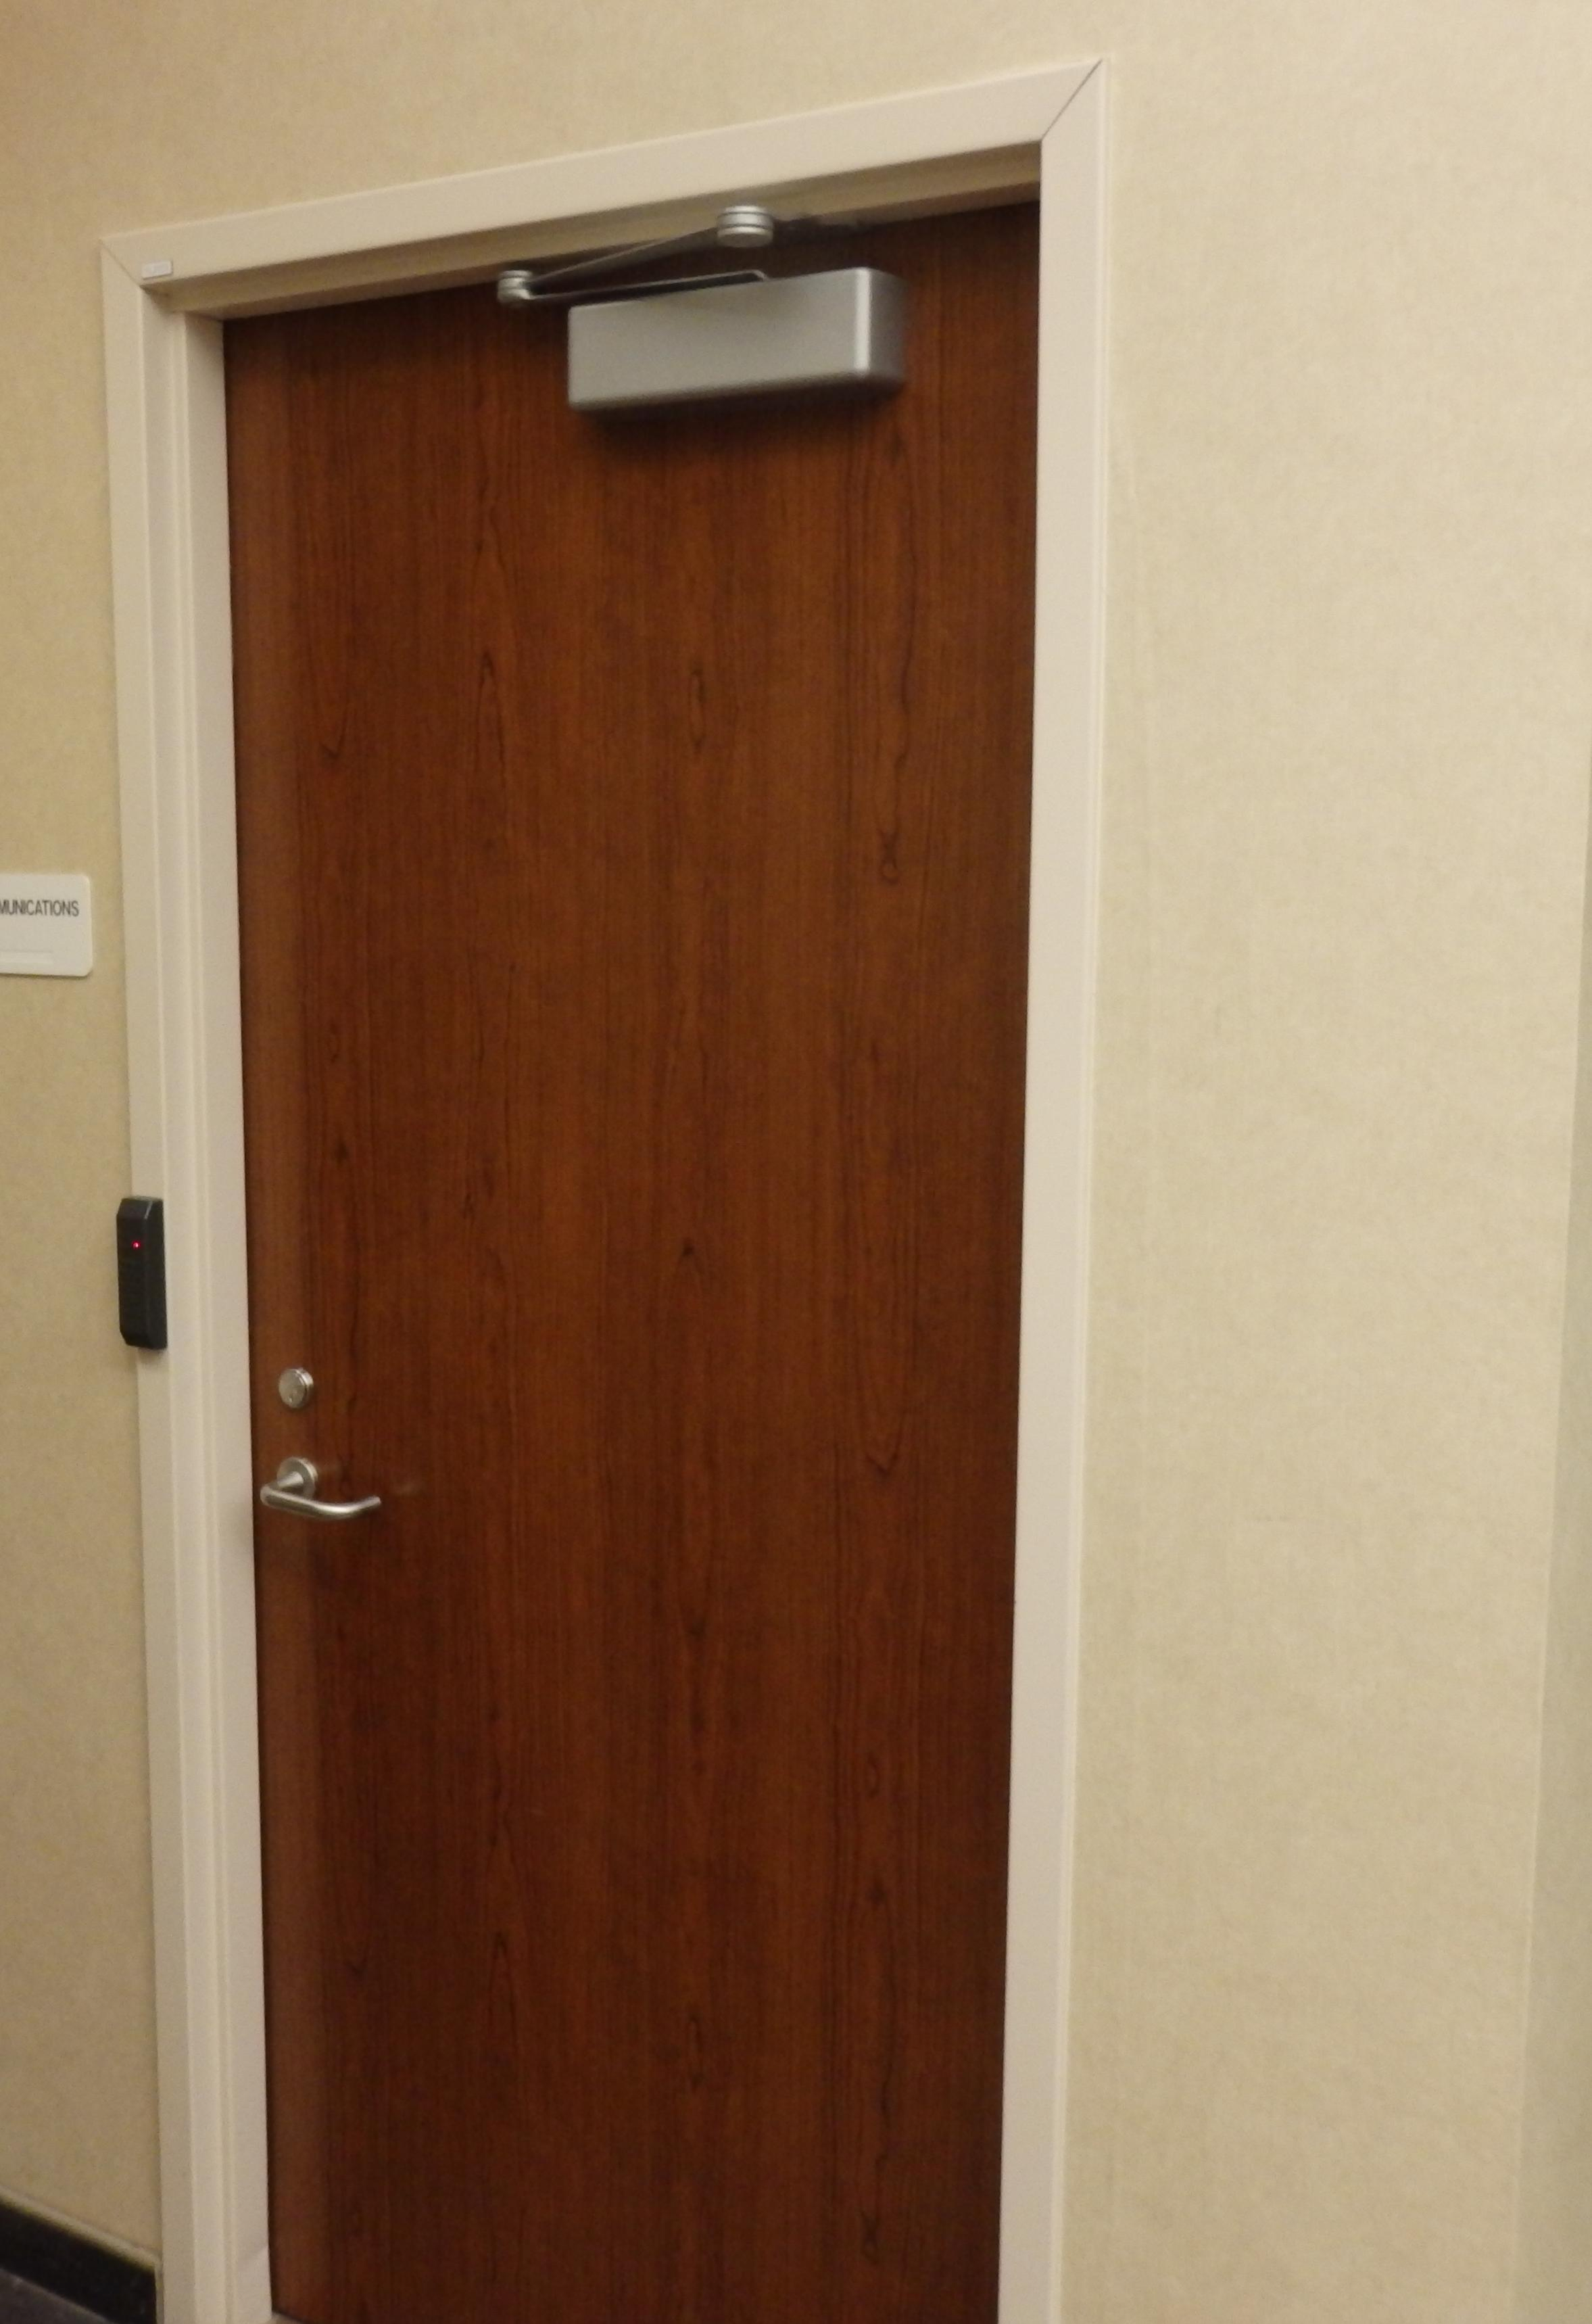door: (219, 148, 1061, 2324)
